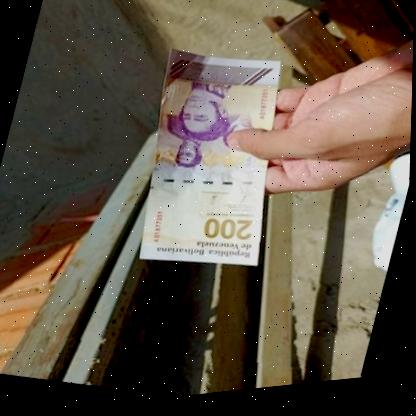two_hundred-front-vef: (116, 37, 312, 292)
